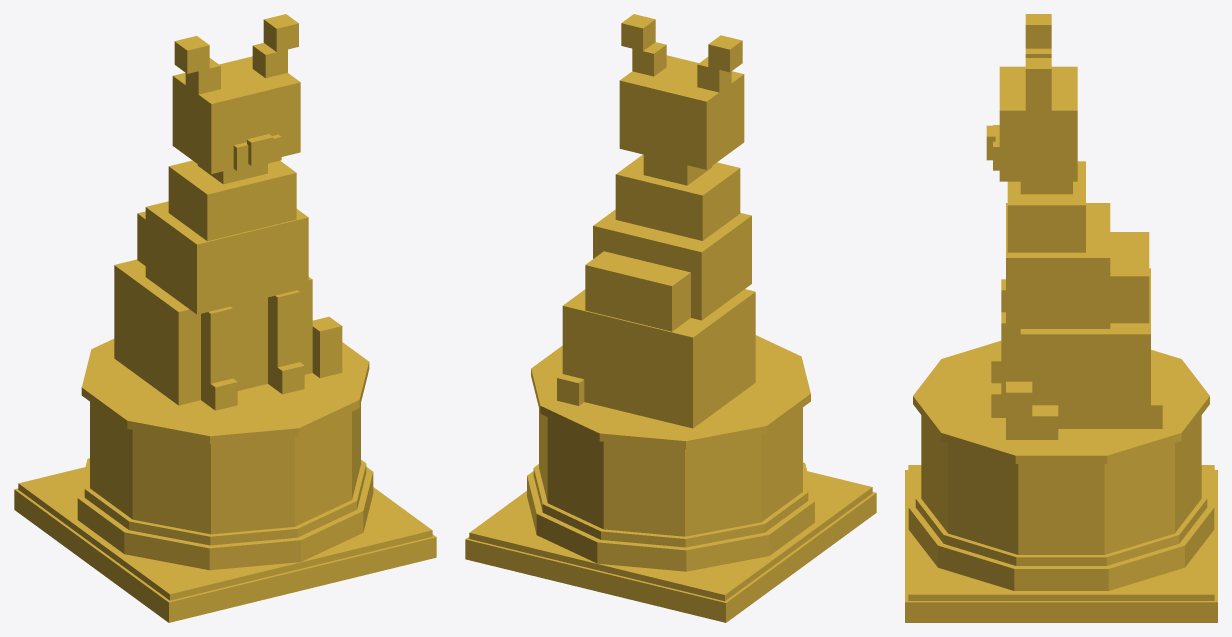
The model's file is aldrich_cat_statue.fbx.
3 renders of one model, left to right at view 1: azimuth 30°, elevation 25°; view 2: azimuth 150°, elevation 25°; view 3: azimuth 270°, elevation 25°, orthographic. The views are drawn at different scales.
Visible parts, largest first — view 1: aldrich_cat_statue; view 2: aldrich_cat_statue; view 3: aldrich_cat_statue.
Part boxes in pixels (x1,y1,x2,y2): aldrich_cat_statue: [14, 14, 436, 622]; aldrich_cat_statue: [465, 14, 876, 622]; aldrich_cat_statue: [905, 14, 1217, 622].
Bounding box in the file's own units: 0.96 × 1.75 × 0.96.
